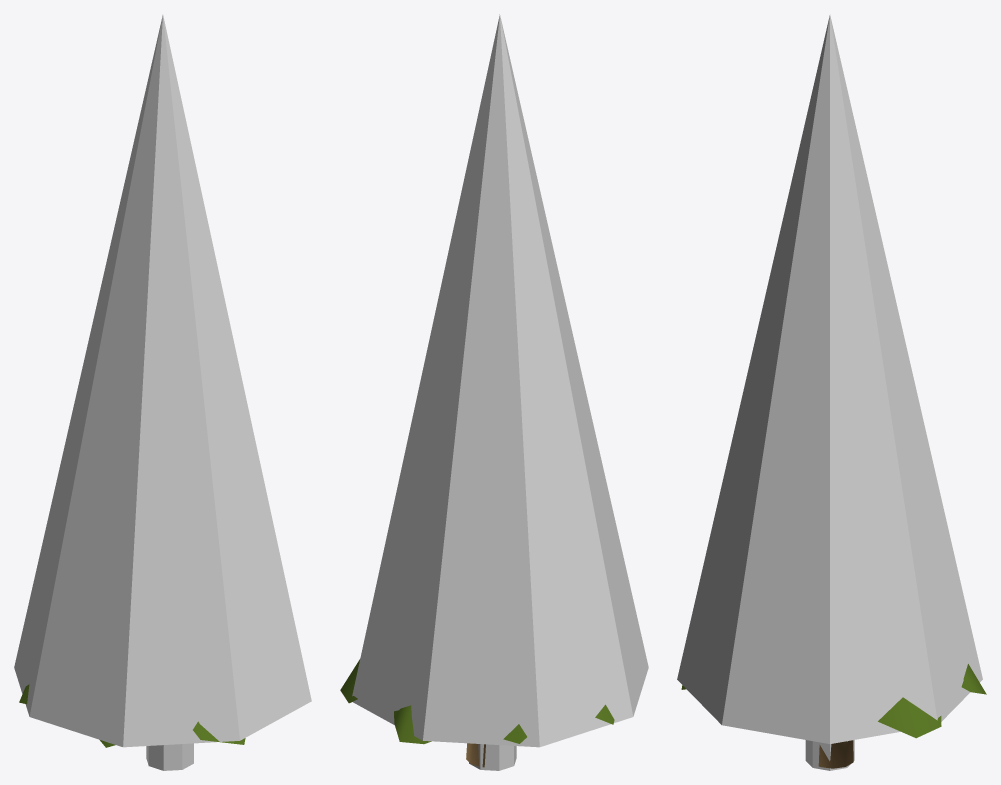
The model's file is Tree.gltf.
3 views of the same model, side by side, from view 1: azimuth 30°, elevation 25°; view 2: azimuth 150°, elevation 25°; view 3: azimuth 270°, elevation 25° (orthographic).
Visible parts, largest first — view 1: COL, COL1, Resource_PineTree_Group.001; view 2: COL, Resource_PineTree_Group.001, COL1; view 3: COL, Resource_PineTree_Group.001, COL1.
Part boxes in pixels (bbox=[...]): COL: bbox=[14, 15, 311, 747]; COL1: bbox=[146, 743, 193, 770]; Resource_PineTree_Group.001: bbox=[19, 684, 245, 747]; COL: bbox=[352, 14, 648, 747]; Resource_PineTree_Group.001: bbox=[340, 659, 614, 767]; COL1: bbox=[469, 744, 516, 770]; COL: bbox=[677, 14, 982, 743]; Resource_PineTree_Group.001: bbox=[681, 664, 986, 768]; COL1: bbox=[805, 740, 854, 770].
Bounding box in the file's own units: 0.375 × 1 × 0.3798.
